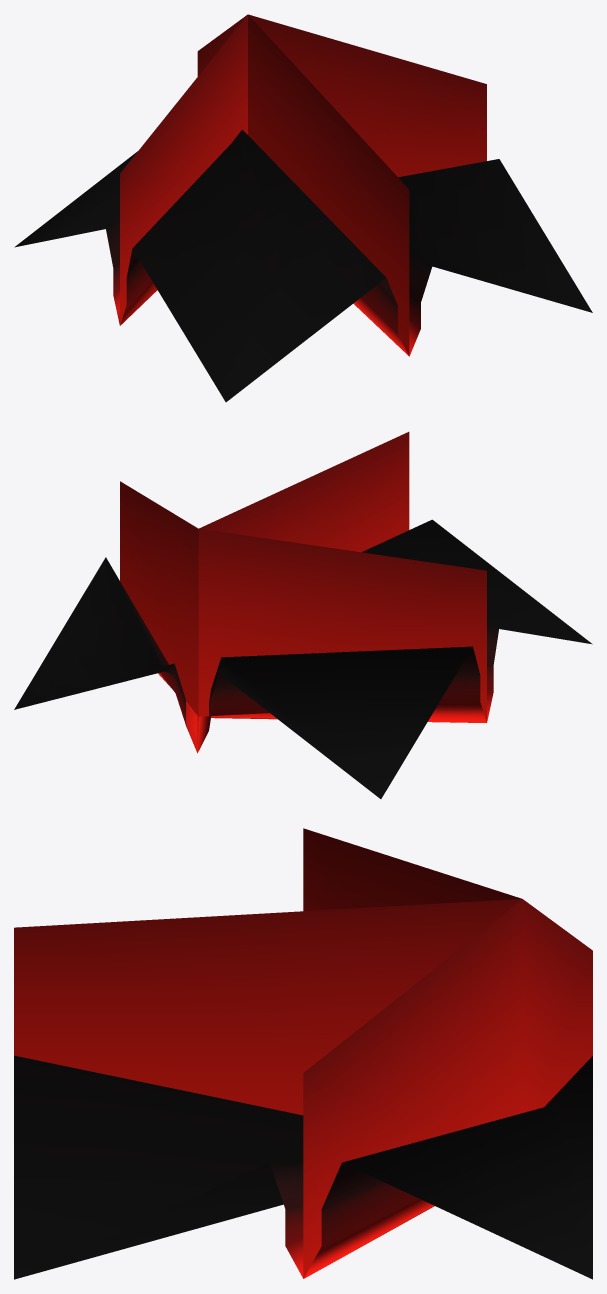
3 views of the same model, one above another, from view 1: azimuth 30°, elevation 25°; view 2: azimuth 150°, elevation 25°; view 3: azimuth 270°, elevation 25° (orthographic). The views are drawn at different scales.
Parts seen in each view (by area): view 1: 9265; view 2: 9265; view 3: 9265.
Part boxes in pixels (x1,y1,x2,y2): 9265: [14, 14, 592, 402]; 9265: [14, 432, 592, 798]; 9265: [14, 828, 592, 1279].
Size of the model in its own units: 128 by 67.44 by 128.
